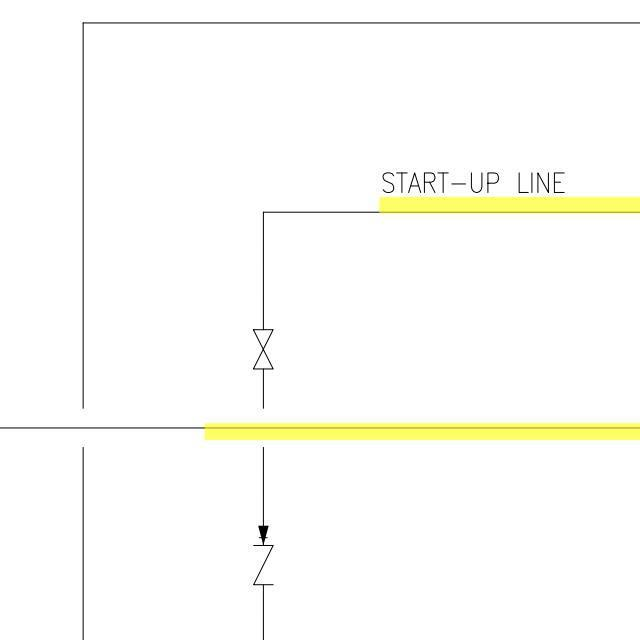GV: (249, 324, 276, 376)
